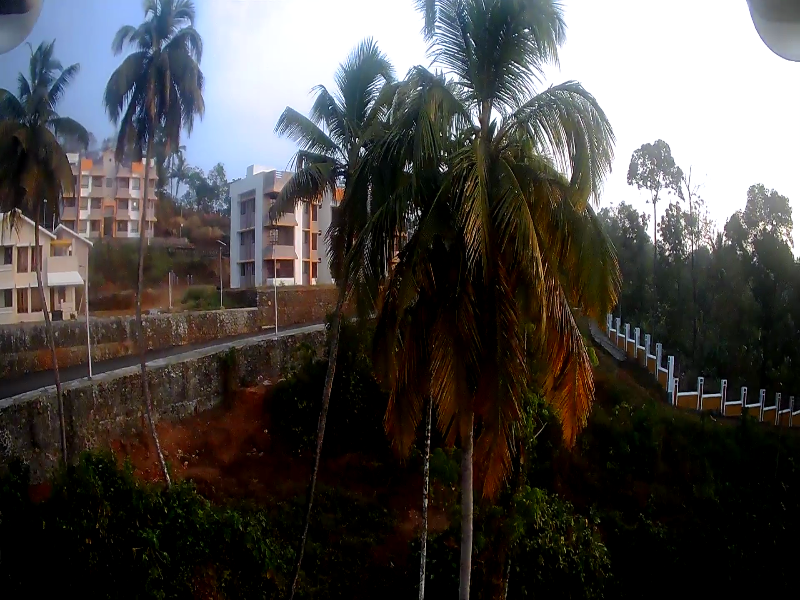coconut: (501, 152, 520, 167)
